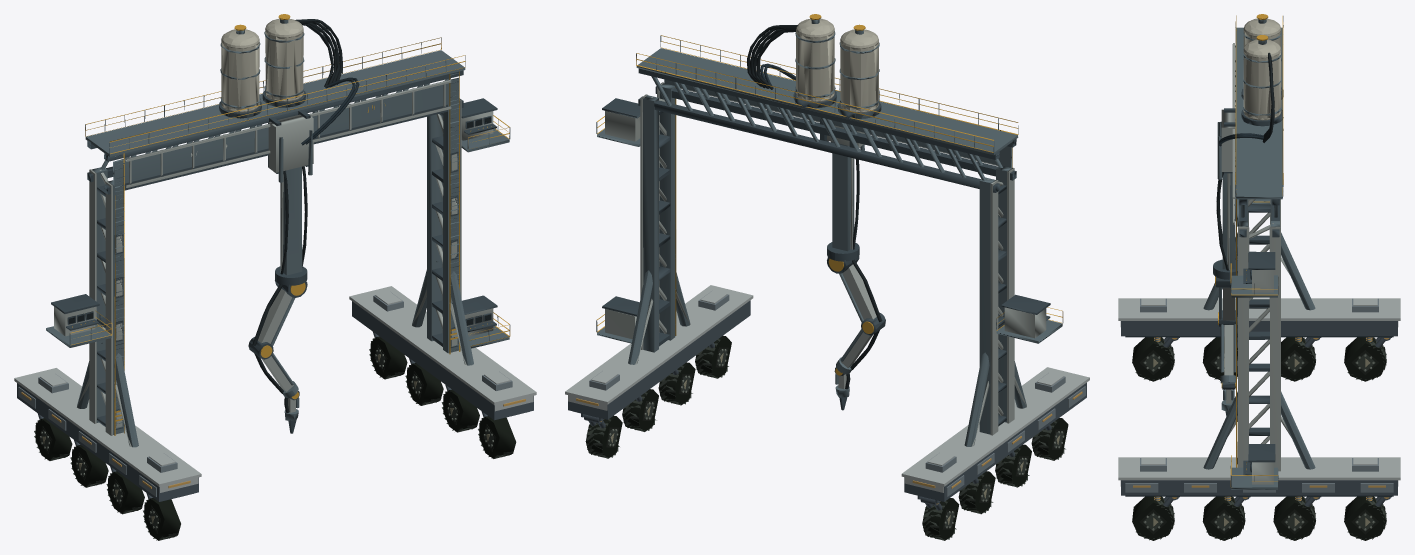
File: stalheart_kidou_d0_lod1.glb
3 renders of one model, left to right at view 1: azimuth 30°, elevation 25°; view 2: azimuth 150°, elevation 25°; view 3: azimuth 270°, elevation 25°, orthographic. The views are drawn at different scales.
Parts seen in each view (by area): view 1: GANTRY_SURFACE_GANTRY_TRAVEL_Y, MOBILE_CHASSIS_SURFACE, GANTRY_SURFACE_TOOL_LIFT_Z, GANTRY_SURFACE_CARRIAGE_TRAVEL_X, GANTRY_SURFACE_J2_SHOULDER, WHEEL_L1, WHEEL_R1, WHEEL_L4, WHEEL_R2, WHEEL_R4, WHEEL_L3, WHEEL_L2 (+2 smaller); view 2: GANTRY_SURFACE_GANTRY_TRAVEL_Y, MOBILE_CHASSIS_SURFACE, GANTRY_SURFACE_TOOL_LIFT_Z, GANTRY_SURFACE_J2_SHOULDER, WHEEL_R4, WHEEL_L4, WHEEL_L3, WHEEL_L1, WHEEL_R2, WHEEL_L2, WHEEL_R1, WHEEL_R3 (+1 smaller); view 3: GANTRY_SURFACE_GANTRY_TRAVEL_Y, MOBILE_CHASSIS_SURFACE, GANTRY_SURFACE_TOOL_LIFT_Z, WHEEL_R4, WHEEL_R1, WHEEL_L1, WHEEL_L4, WHEEL_R3, WHEEL_R2, WHEEL_L3, GANTRY_SURFACE_CARRIAGE_TRAVEL_X, GANTRY_SURFACE_J3_ELBOW (+2 smaller).
Boxes of the visible parts, box(x1,y1,x2,y2) form: GANTRY_SURFACE_GANTRY_TRAVEL_Y: box(46, 14, 510, 447); MOBILE_CHASSIS_SURFACE: box(14, 286, 536, 501); GANTRY_SURFACE_TOOL_LIFT_Z: box(280, 166, 307, 275); GANTRY_SURFACE_CARRIAGE_TRAVEL_X: box(268, 110, 313, 182); GANTRY_SURFACE_J2_SHOULDER: box(252, 279, 307, 347); WHEEL_L1: box(143, 498, 180, 540); WHEEL_R1: box(478, 416, 516, 458); WHEEL_L4: box(34, 418, 72, 460); WHEEL_R2: box(441, 389, 479, 432); WHEEL_R4: box(369, 336, 407, 379); WHEEL_L3: box(70, 444, 108, 487); WHEEL_L2: box(106, 471, 144, 514); GANTRY_SURFACE_GANTRY_TRAVEL_Y: box(596, 14, 1063, 446); MOBILE_CHASSIS_SURFACE: box(565, 285, 1089, 501); GANTRY_SURFACE_TOOL_LIFT_Z: box(832, 142, 859, 251); GANTRY_SURFACE_J2_SHOULDER: box(827, 256, 882, 323); WHEEL_R4: box(585, 415, 622, 458); WHEEL_L4: box(922, 498, 959, 540); WHEEL_L3: box(958, 471, 995, 514); WHEEL_L1: box(1031, 418, 1068, 460); WHEEL_R2: box(658, 362, 695, 405); WHEEL_L2: box(995, 444, 1031, 487); WHEEL_R1: box(695, 335, 731, 378); WHEEL_R3: box(622, 389, 658, 431); GANTRY_SURFACE_GANTRY_TRAVEL_Y: box(1203, 14, 1315, 489); MOBILE_CHASSIS_SURFACE: box(1118, 298, 1400, 496); GANTRY_SURFACE_TOOL_LIFT_Z: box(1216, 172, 1235, 270); WHEEL_R4: box(1344, 496, 1386, 540); WHEEL_R1: box(1132, 496, 1174, 540); WHEEL_L1: box(1132, 337, 1174, 381); WHEEL_L4: box(1344, 337, 1386, 381); WHEEL_R3: box(1273, 496, 1315, 540); WHEEL_R2: box(1202, 496, 1245, 540); WHEEL_L3: box(1281, 337, 1315, 381); GANTRY_SURFACE_CARRIAGE_TRAVEL_X: box(1217, 108, 1235, 179); GANTRY_SURFACE_J3_ELBOW: box(1218, 310, 1235, 375).
Bounding box in the file's own units: 42.09 × 39.86 × 24.
